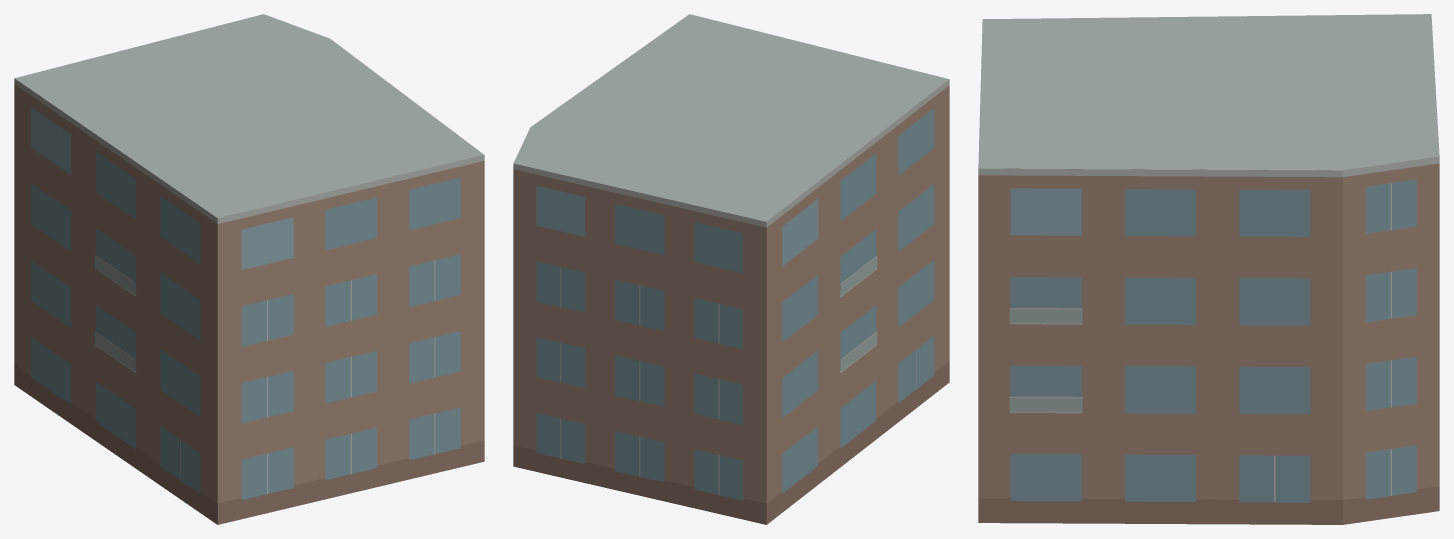
File: survey-upis-32864763.glb
3 renders of one model, left to right at view 1: azimuth 30°, elevation 25°; view 2: azimuth 150°, elevation 25°; view 3: azimuth 270°, elevation 25°, orthographic. The views are drawn at different scales.
Parts seen in each view (by area): view 1: survey-upis-32864763.tmp; view 2: survey-upis-32864763.tmp; view 3: survey-upis-32864763.tmp.
Boxes of the visible parts, x1,y1,x2,y2 form: survey-upis-32864763.tmp: [14, 14, 484, 524]; survey-upis-32864763.tmp: [513, 14, 949, 524]; survey-upis-32864763.tmp: [978, 14, 1439, 524].
Bounding box in the file's own units: 12.18 × 12.85 × 15.17.
